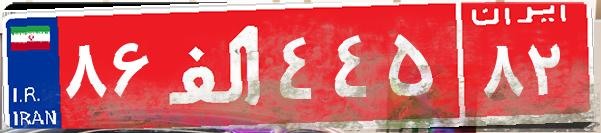2: (525, 38, 570, 115)
4: (273, 28, 330, 110), (330, 28, 385, 110)
5: (385, 28, 445, 110)
6: (110, 28, 158, 105)
8: (57, 26, 110, 107), (475, 38, 525, 113)
الف: (158, 15, 273, 115)
